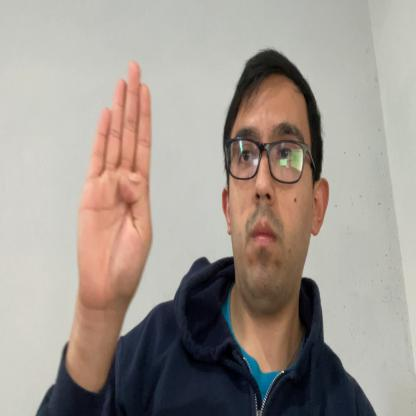B: (76, 61, 152, 304)
